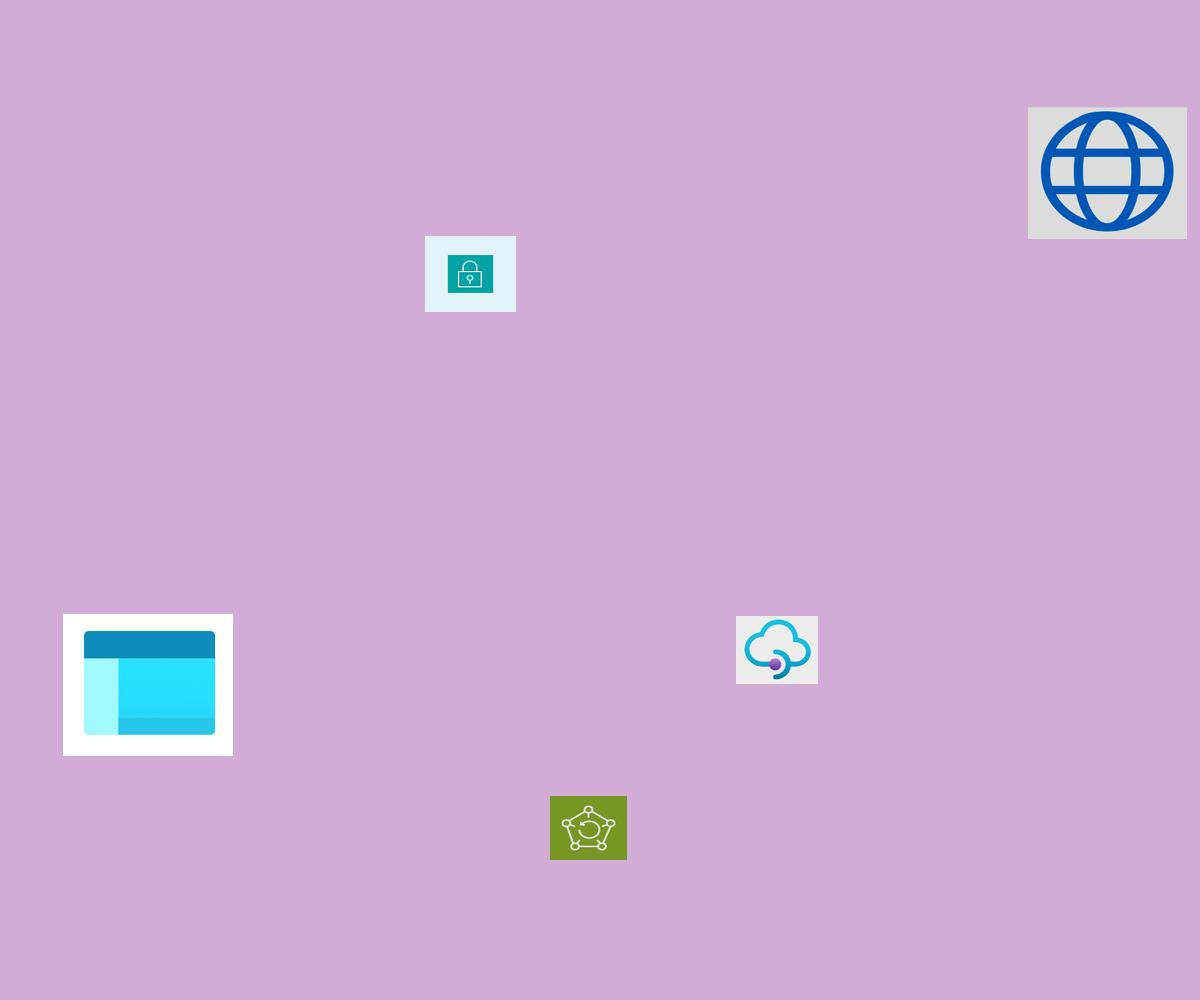AWS-Backup: (550, 796, 627, 860)
AWS-Private-subnet: (425, 236, 516, 312)
Azure_api_gateway: (736, 616, 818, 684)
Azure_http: (1028, 107, 1187, 239)
Azure_management-portal: (63, 614, 233, 756)
